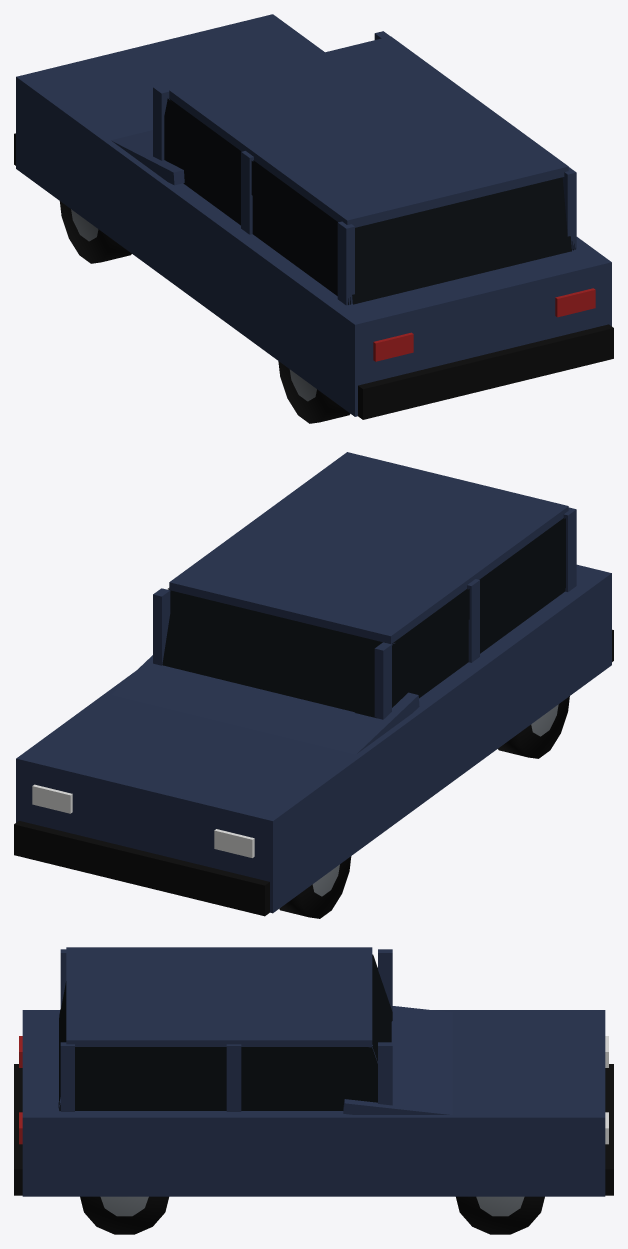
The model's file is vehicle.car.dales_1.glb.
3 renders of one model, top to bottom at view 1: azimuth 30°, elevation 25°; view 2: azimuth 150°, elevation 25°; view 3: azimuth 270°, elevation 25°, orthographic. The views are drawn at different scales.
Parts seen in each view (by area): view 1: main__enamel_235, main__glass_dark, main__rubber, main__paint_922, main__paint_777; view 2: main__enamel_235, main__glass_dark, main__rubber, main__paint_eed, main__paint_777; view 3: main__enamel_235, main__glass_dark, main__rubber, main__paint_777.
Boxes of the visible parts, left/top/right/bottom form: main__enamel_235: left=16, top=14, right=611, bottom=416; main__glass_dark: left=164, top=98, right=575, bottom=304; main__rubber: left=14, top=133, right=613, bottom=423; main__paint_922: left=373, top=288, right=595, bottom=361; main__paint_777: left=71, top=209, right=316, bottom=401; main__enamel_235: left=16, top=452, right=611, bottom=913; main__glass_dark: left=162, top=518, right=565, bottom=718; main__rubber: left=14, top=629, right=613, bottom=918; main__paint_eed: left=32, top=784, right=254, bottom=857; main__paint_777: left=312, top=704, right=558, bottom=896; main__enamel_235: left=22, top=947, right=605, bottom=1196; main__glass_dark: left=58, top=954, right=392, bottom=1110; main__rubber: left=14, top=1064, right=613, bottom=1234; main__paint_777: left=100, top=1196, right=524, bottom=1216.
Size of the model in its own units: 1.75 by 1.44 by 4.12.
